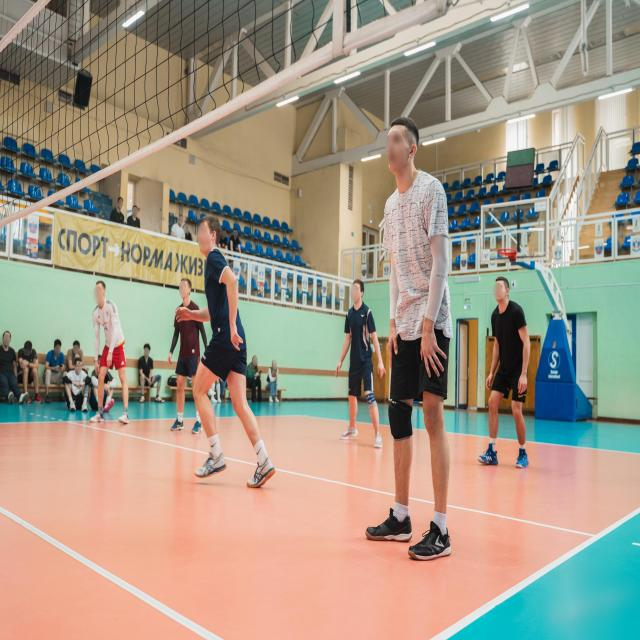Person: (356, 110, 458, 581), (192, 210, 272, 525), (478, 270, 538, 469), (334, 271, 390, 459), (92, 268, 138, 440), (167, 279, 209, 432), (0, 326, 22, 410), (20, 333, 44, 408), (43, 335, 68, 407), (138, 344, 163, 406), (242, 353, 266, 410), (68, 354, 88, 418), (263, 357, 284, 405), (109, 189, 127, 237), (162, 211, 184, 244), (128, 202, 146, 240), (66, 339, 84, 366), (229, 227, 243, 253), (220, 224, 228, 256), (182, 225, 194, 246)
